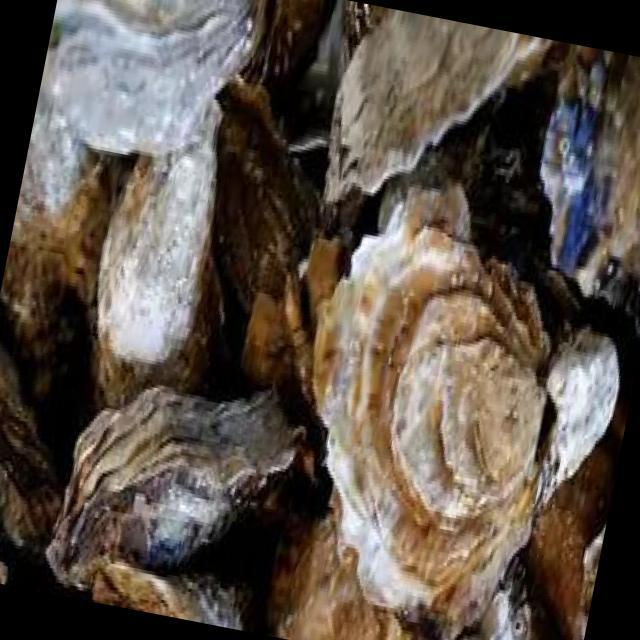Oyster- Indeterminate: (311, 189, 550, 607), (42, 390, 322, 592), (447, 328, 617, 640), (324, 8, 555, 196), (91, 100, 220, 403), (0, 65, 116, 381), (377, 70, 555, 274), (48, 0, 266, 155), (239, 230, 347, 503), (539, 44, 640, 330), (215, 83, 315, 304), (274, 509, 410, 640), (523, 441, 612, 640), (0, 351, 59, 545), (92, 560, 240, 630), (241, 0, 336, 88), (477, 556, 557, 640)
